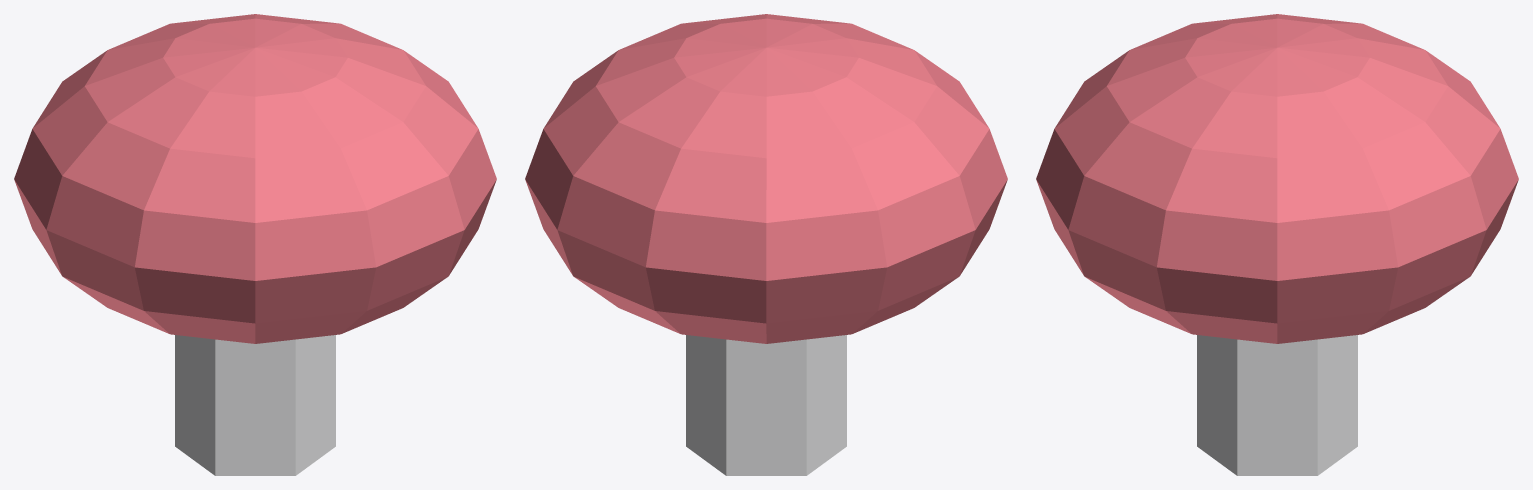
The model's file is low_poly_mushroom.glb.
3 renders of one model, left to right at view 1: azimuth 30°, elevation 25°; view 2: azimuth 150°, elevation 25°; view 3: azimuth 270°, elevation 25°, orthographic.
Parts seen in each view (by area): view 1: Mushroom; view 2: Mushroom; view 3: Mushroom.
Part boxes in pixels (box(x1,y1,x2,y2)): Mushroom: box(14, 14, 496, 475); Mushroom: box(525, 14, 1007, 475); Mushroom: box(1036, 14, 1518, 475).
Bounding box in the file's own units: 0.9 × 0.82 × 0.9.
